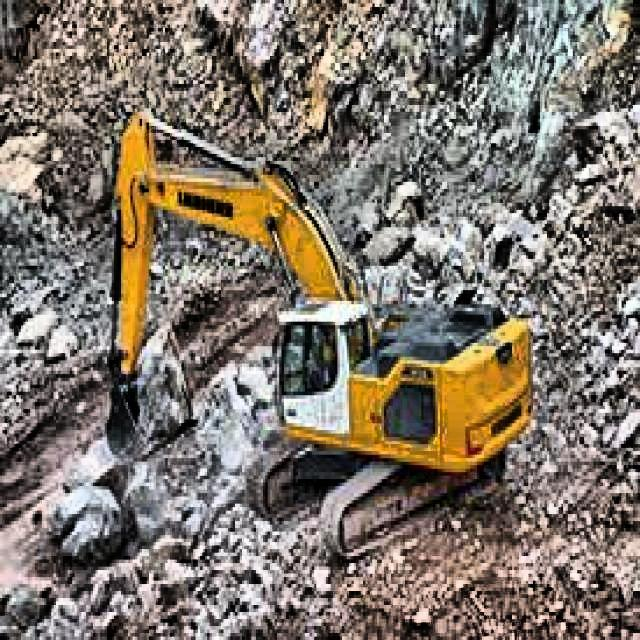bull_dozer/loader/grader: (95, 91, 538, 569)
person: (315, 330, 333, 372)
